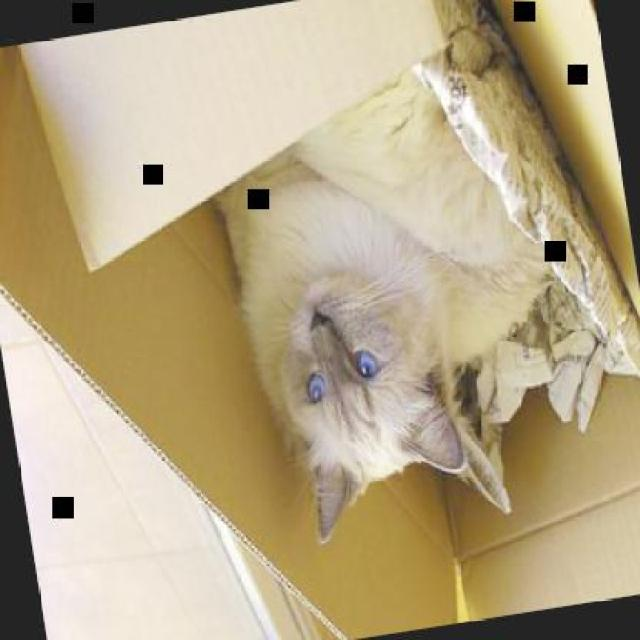cat: (203, 47, 588, 553)
